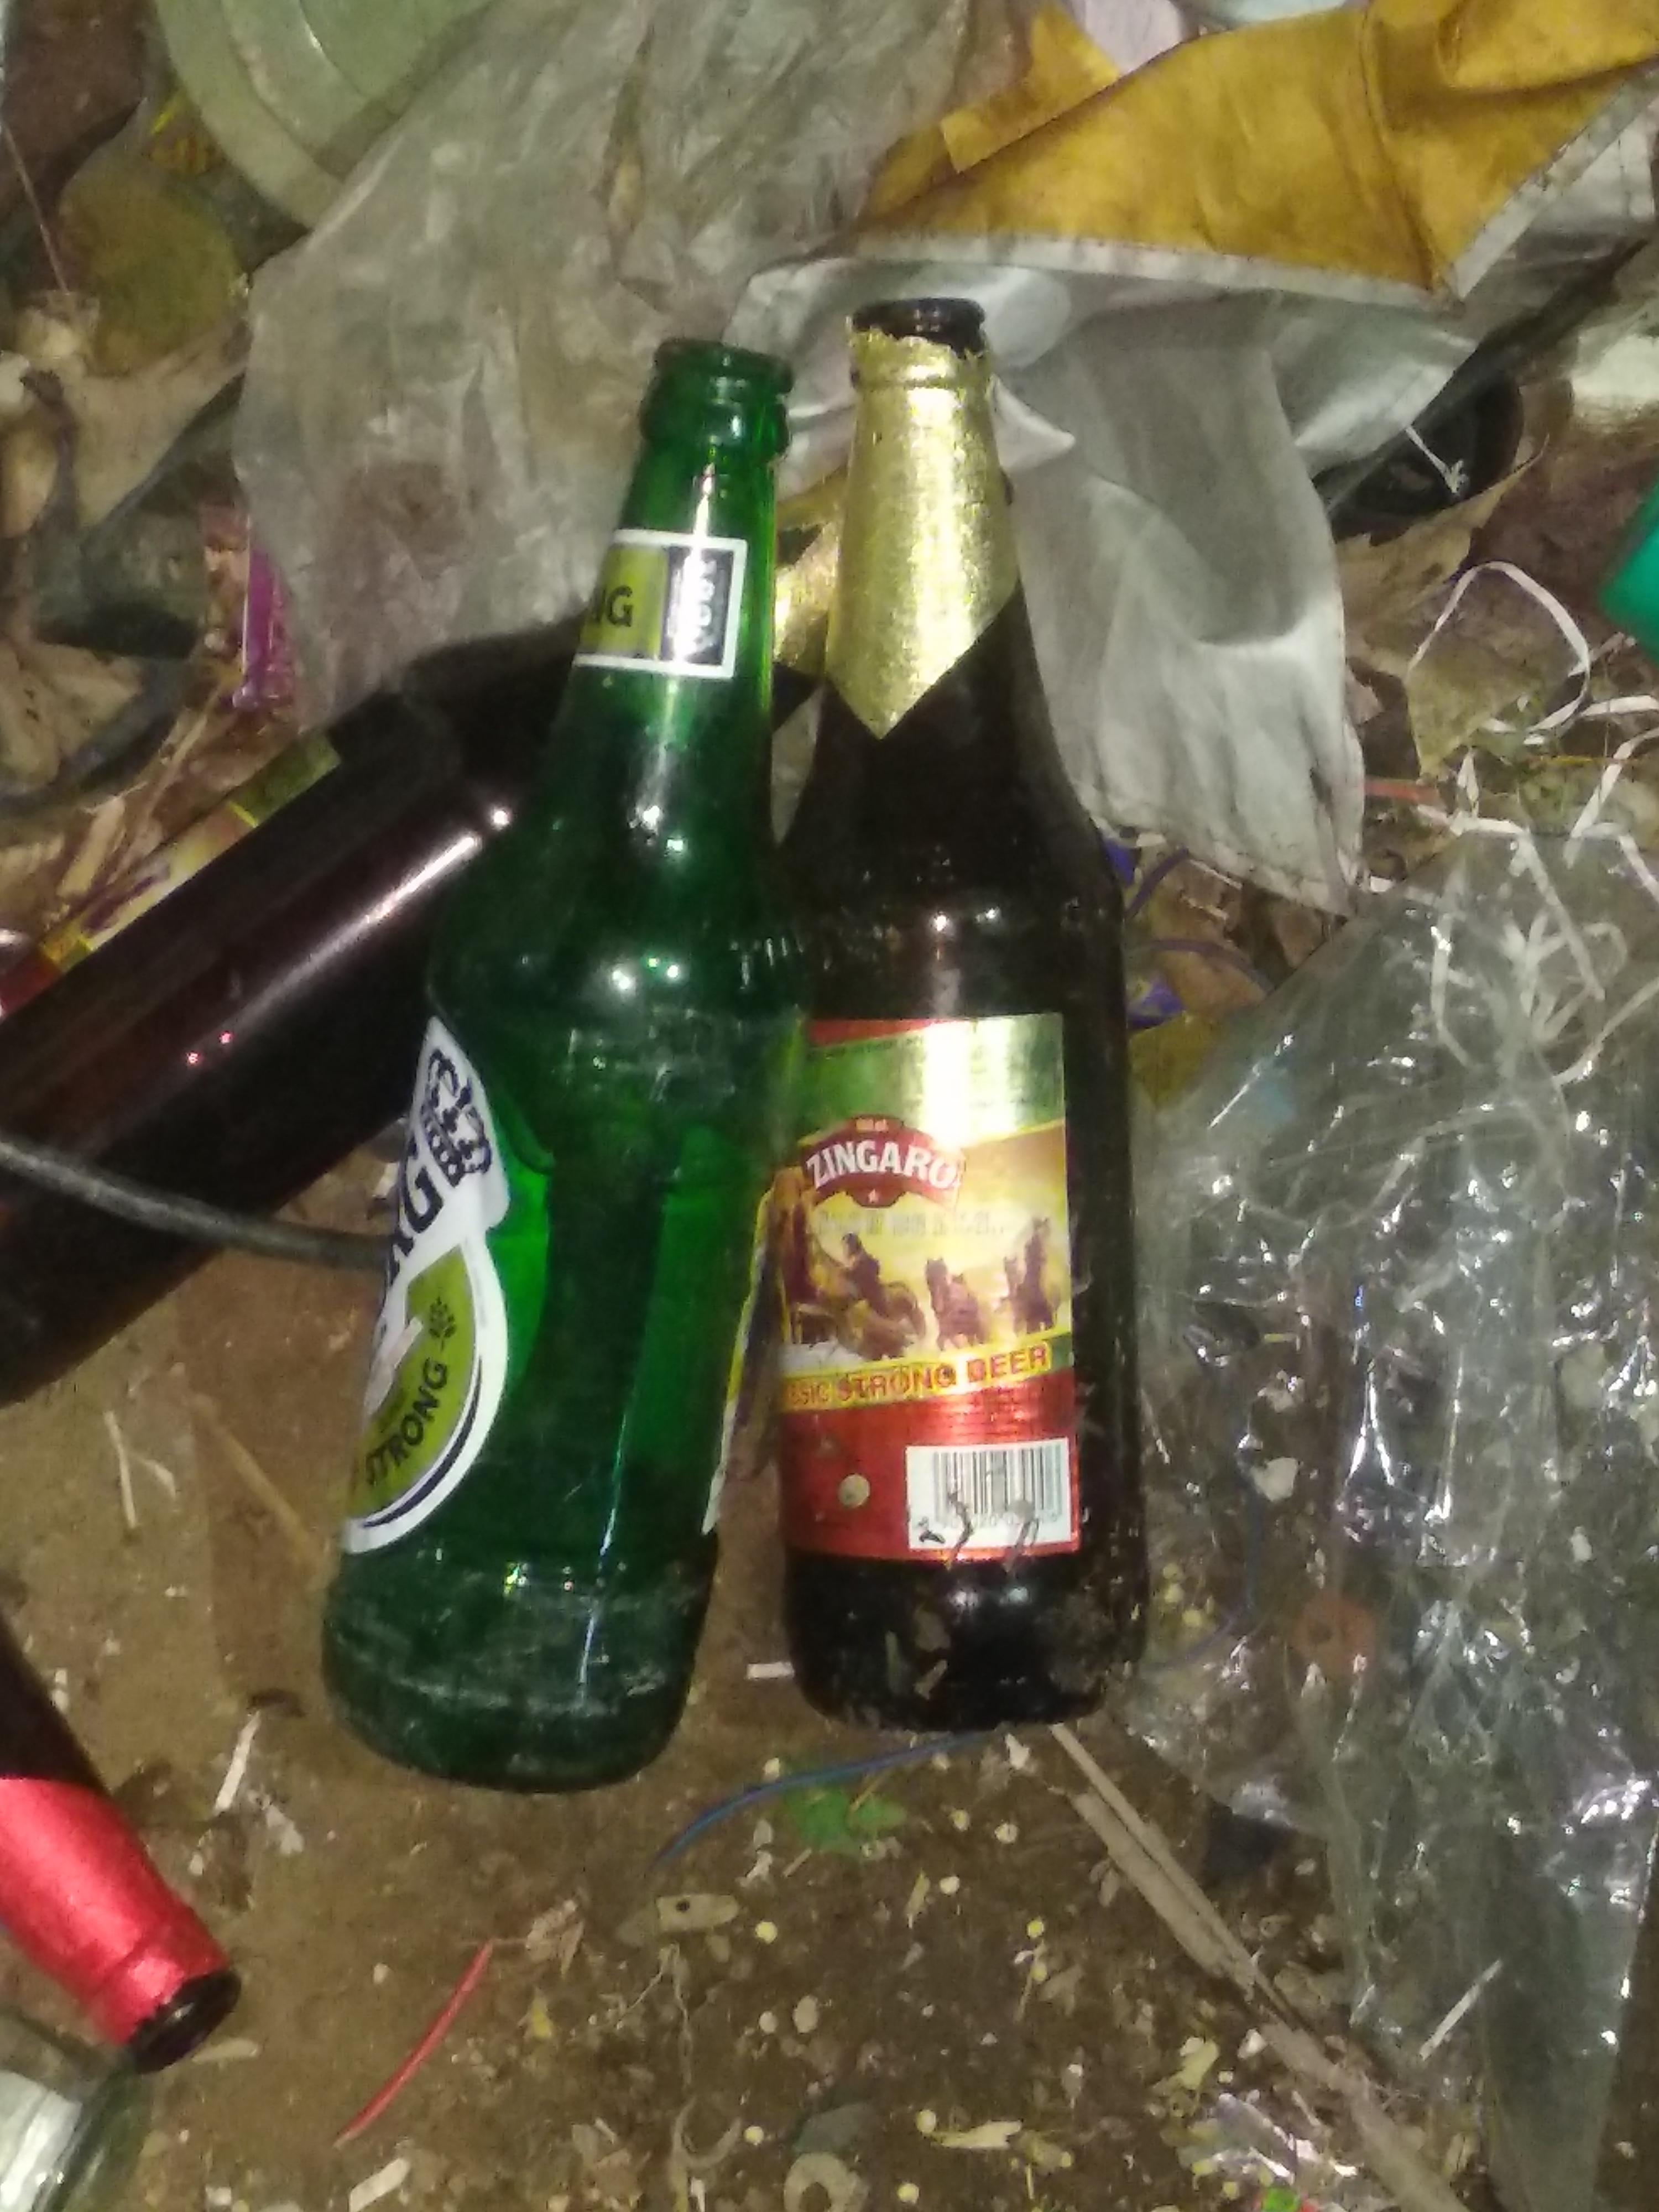trash: (0, 253, 1629, 2212)
